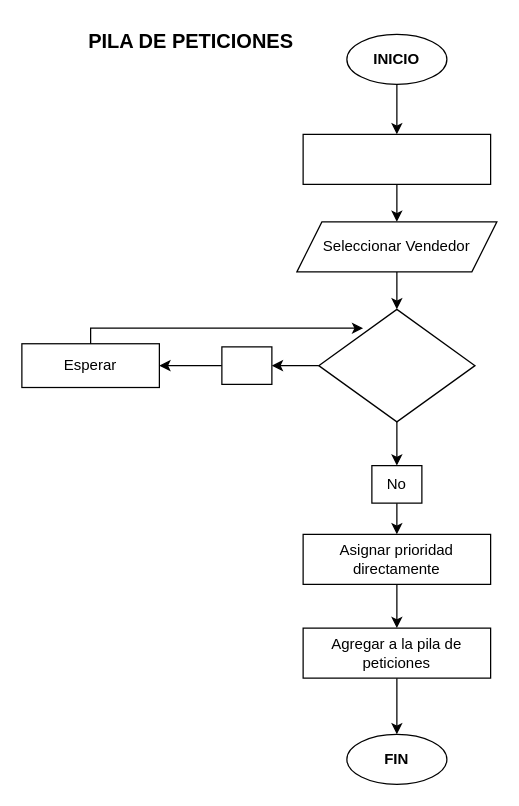
This 519x806 diagram has some shape labels left out. The shapes that lost their labels are listed below. From the top down, each one's centre as x and y in pixels, then its label:
At point 396,158: "Nueva Petición de Producto".
At point 246,365: "Sí".
At point 396,365: "¿Pedido al mismo tiempo que otro producto?".
